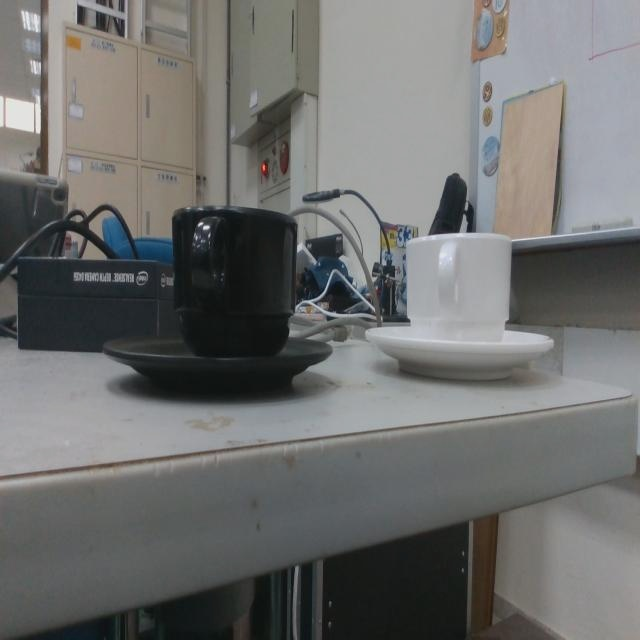black: (100, 200, 336, 399)
white: (362, 228, 556, 387)
